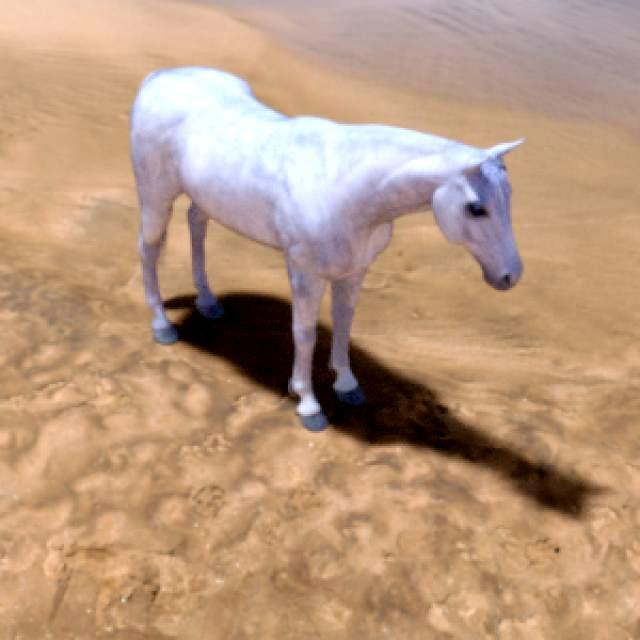horse: (131, 68, 522, 431)
